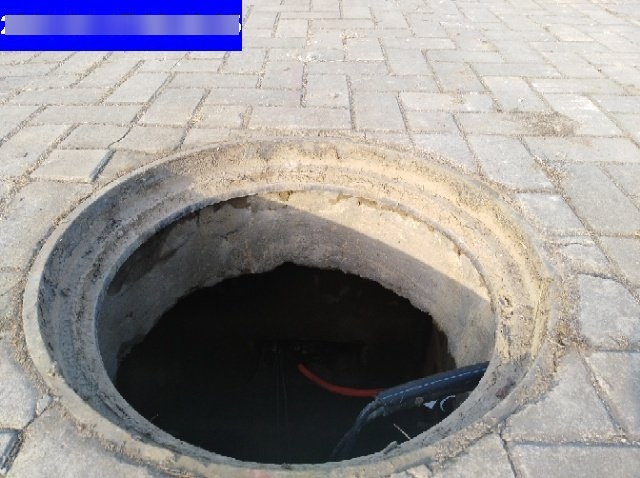lose: (20, 133, 558, 478)
